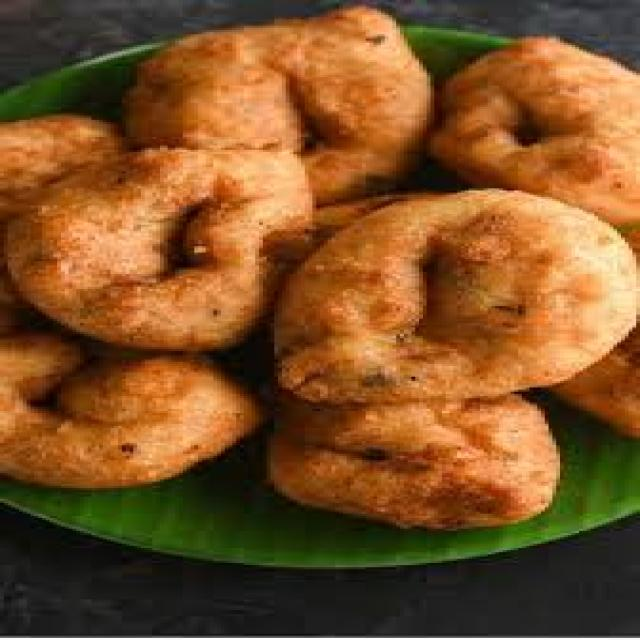MEDU VADA: (278, 191, 636, 402), (8, 150, 309, 347), (130, 9, 430, 199), (267, 394, 556, 527), (0, 338, 255, 488), (434, 36, 636, 225)
